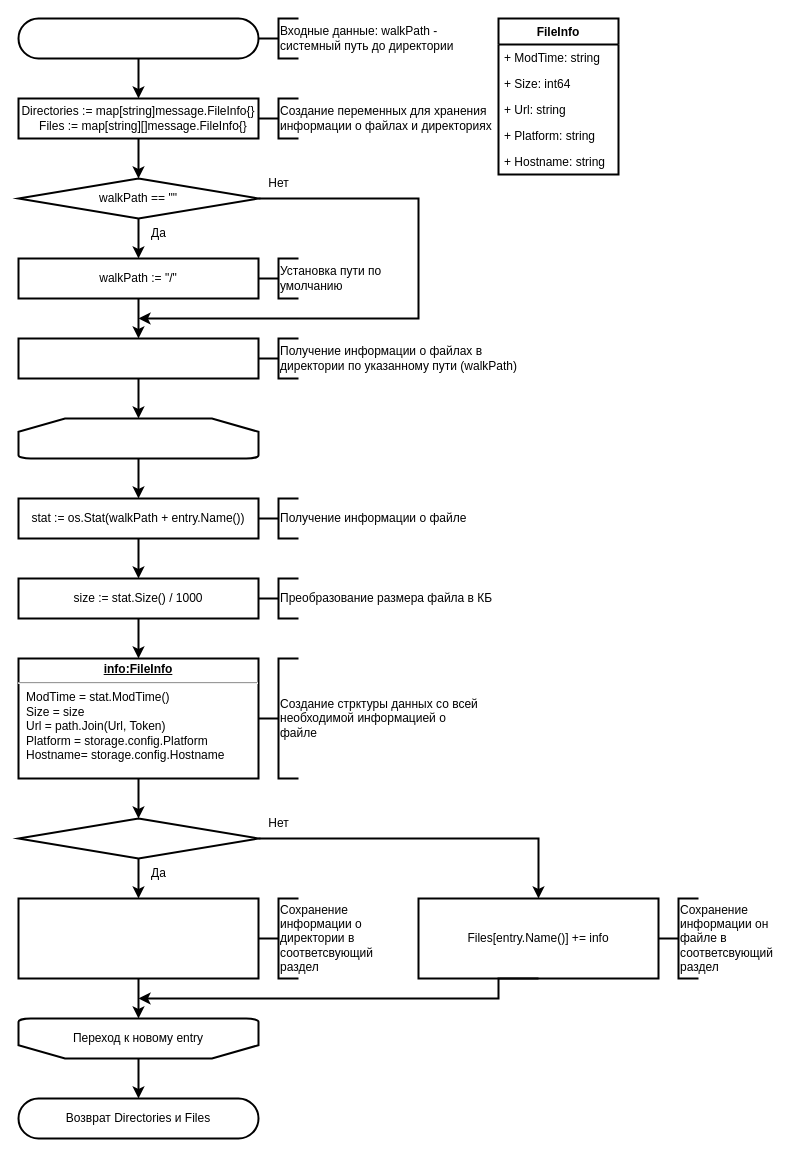
Image size: 795x1156. Some labels were removed from this diagram. Here are the shapes that lost their labels. From the top down, the centre of each, then its label:
[138,38]: Начало
[138,358]: entries := os.ReadDir(walkPath)
[138,438]: цикл по каждому entry из entries
[138,838]: entry.IsDir()
[138,938]: Directories[entry.Name()] = info
